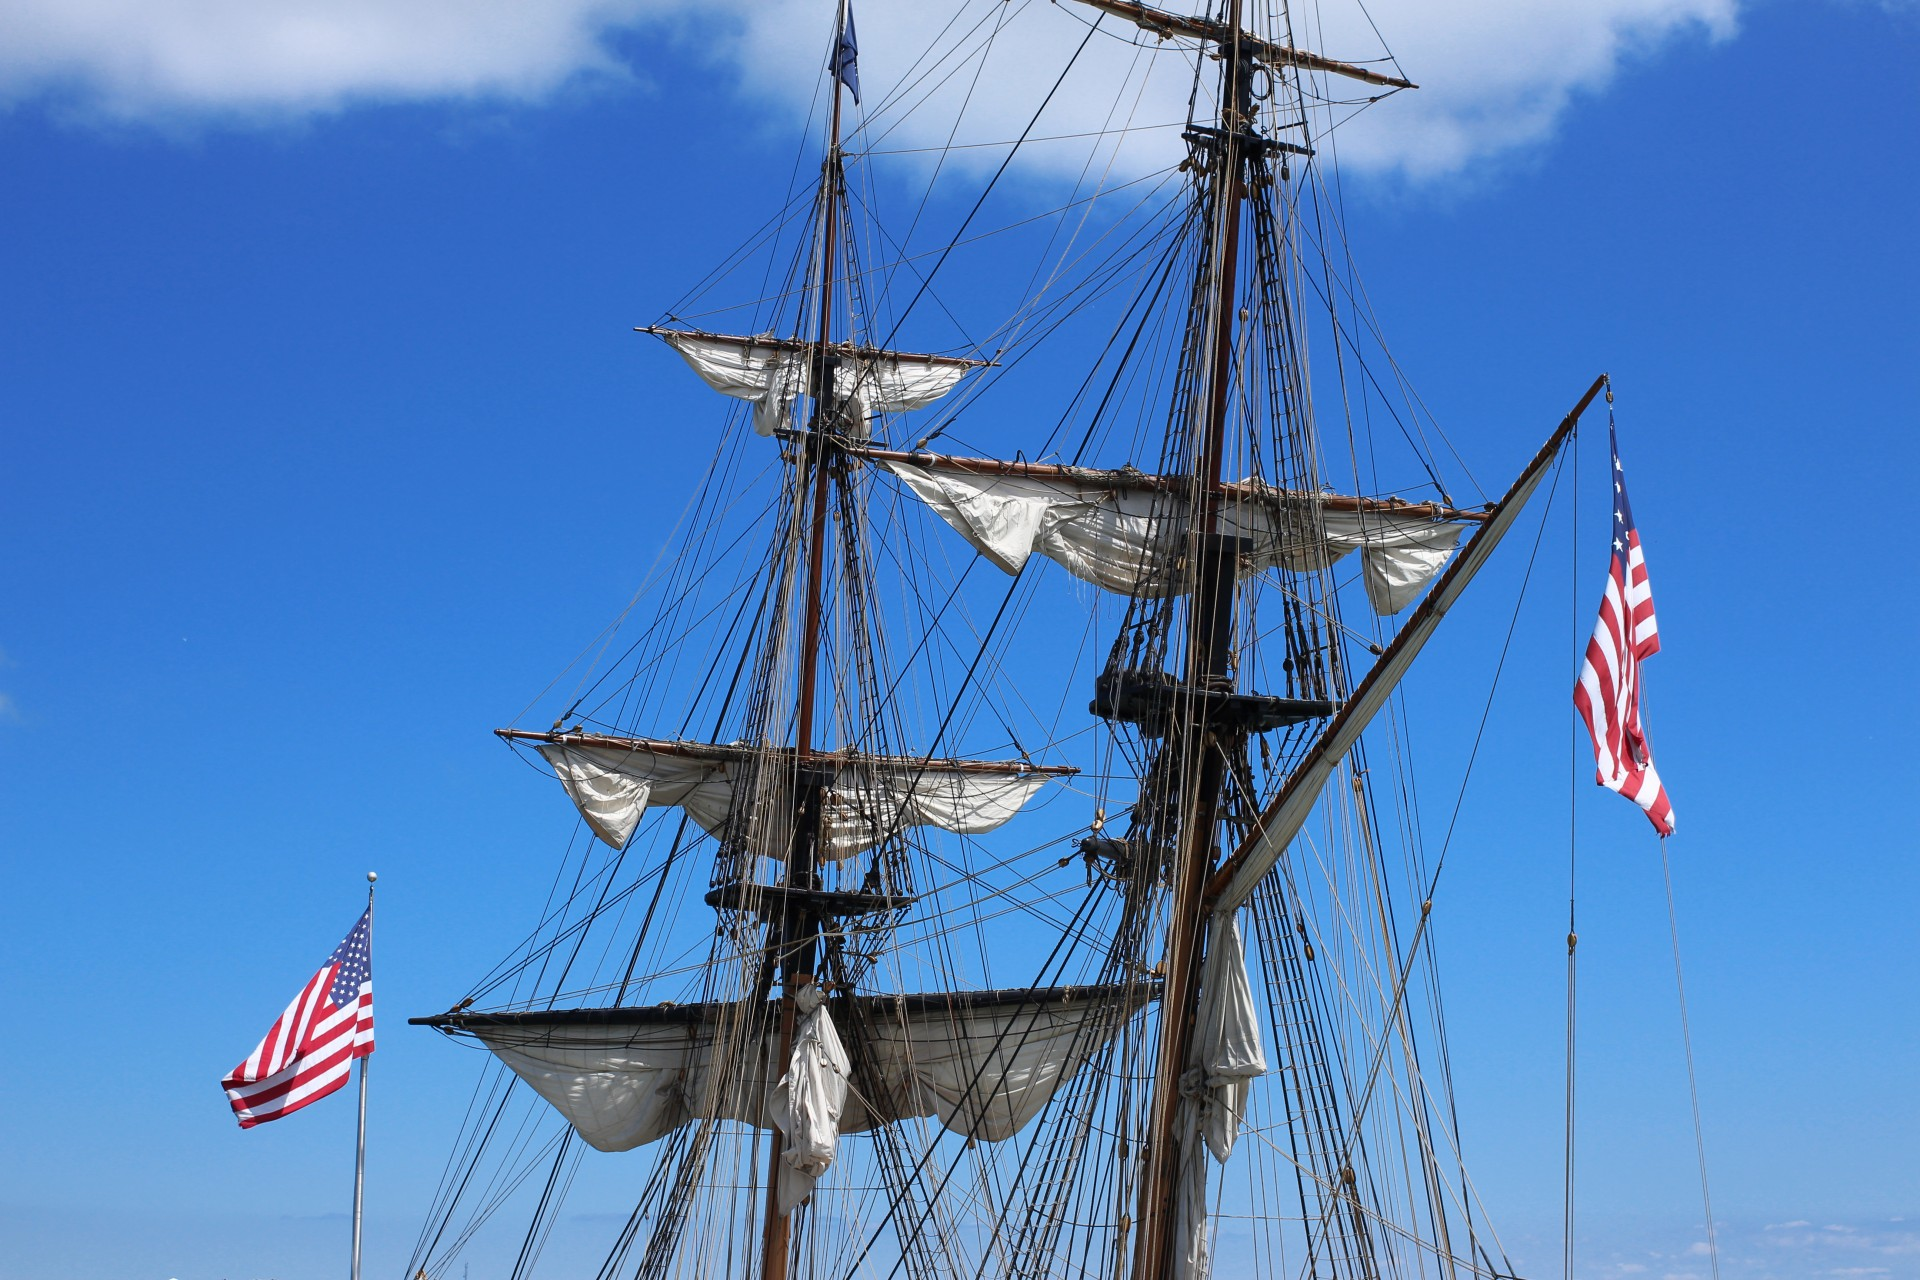Flag: (826, 6, 867, 109)
